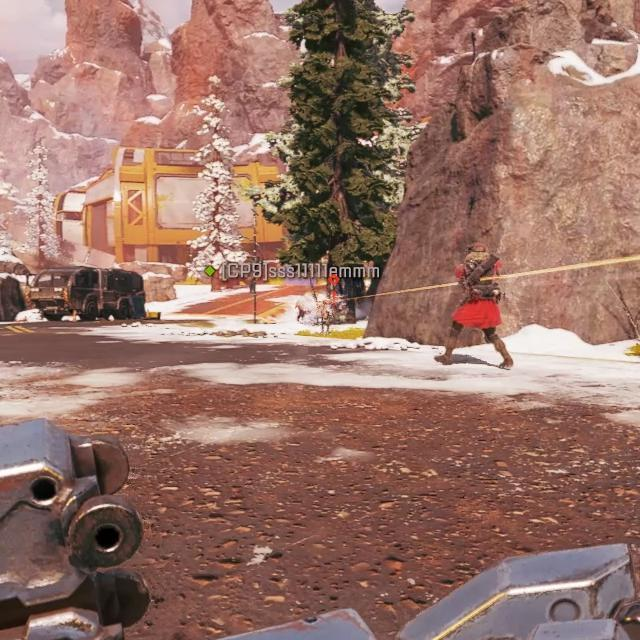avatar: (434, 240, 518, 372)
